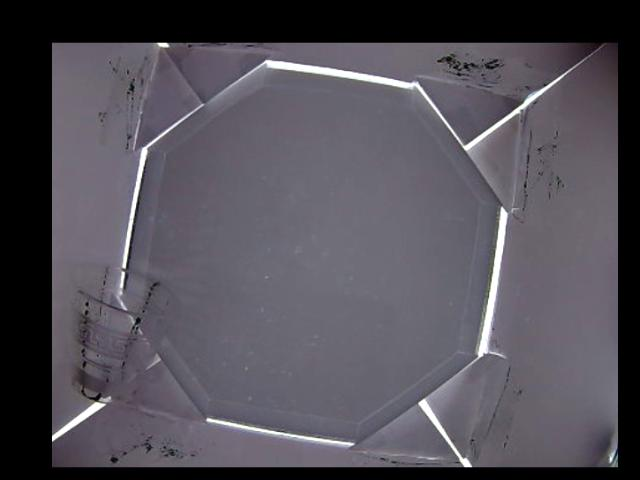Cup: (68, 261, 174, 406)
